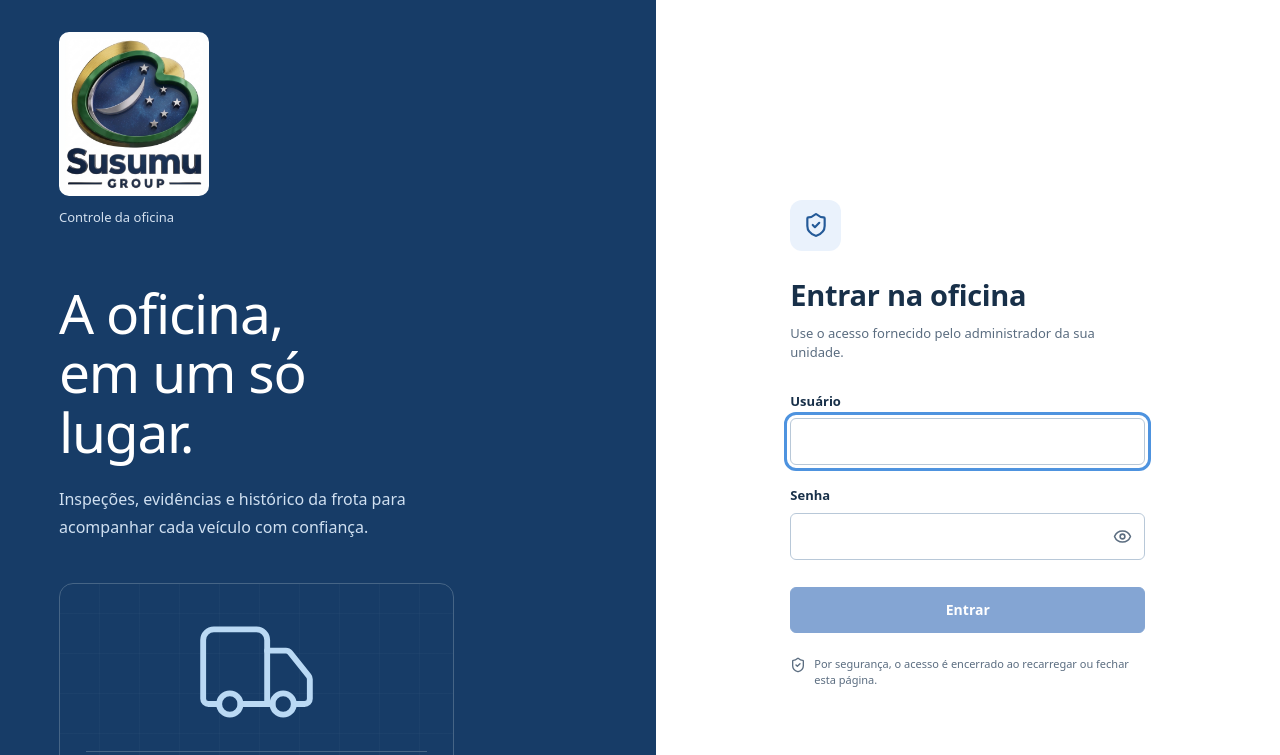
Test: correction discovery › does not present a full correction count before the final page has been checked
The width and height of the screenshot is (1280, 755).
Type "office" into the field labelled "Usuário".
click(968, 442); type("office")  # box [790,418,1145,465]
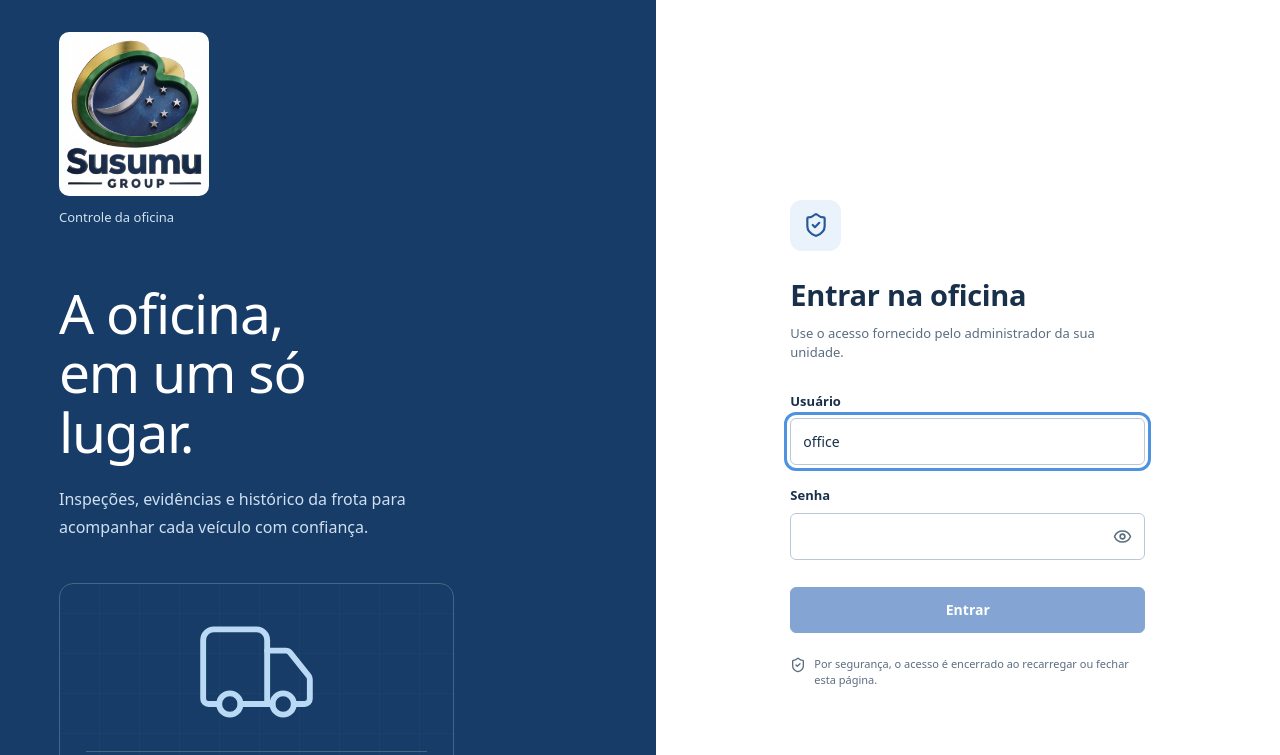
Type "test-only-password" into the password field labelled "Senha".
click(968, 536); type("test-only-password")  # box [790,513,1145,560]
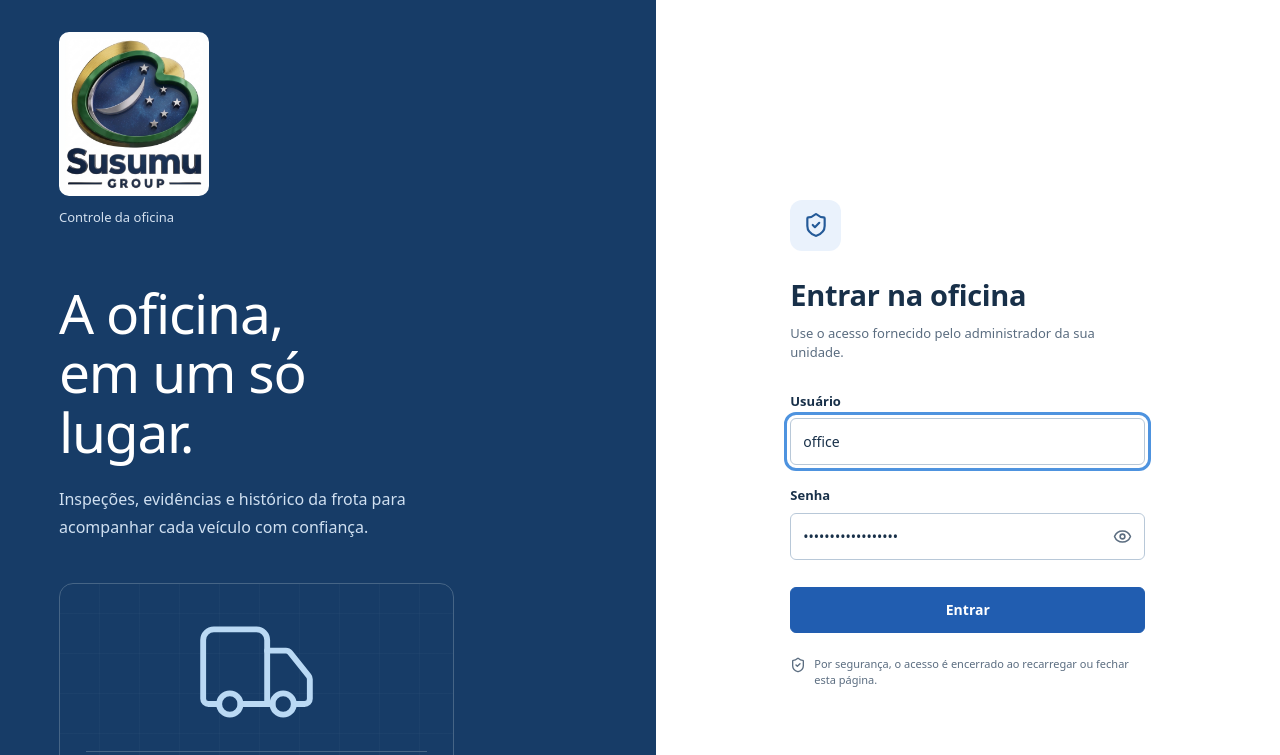
Click the button "Entrar".
click(968, 610)  # box [790,587,1145,633]
(page scrolled)
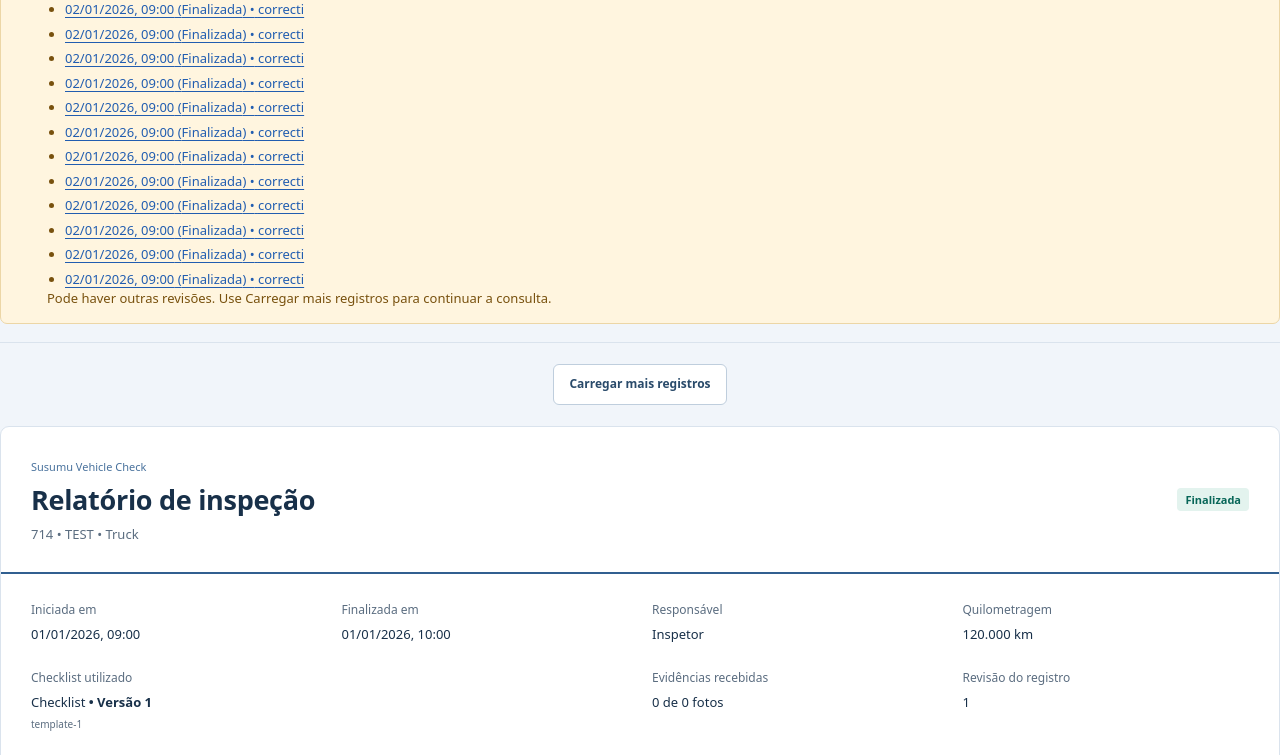
Expected: the text "Pode haver outras revisões" is shown, [47,289,552,307]
Click the button "Carregar mais registros".
click(640, 384)  # box [553,364,727,405]
(page scrolled)
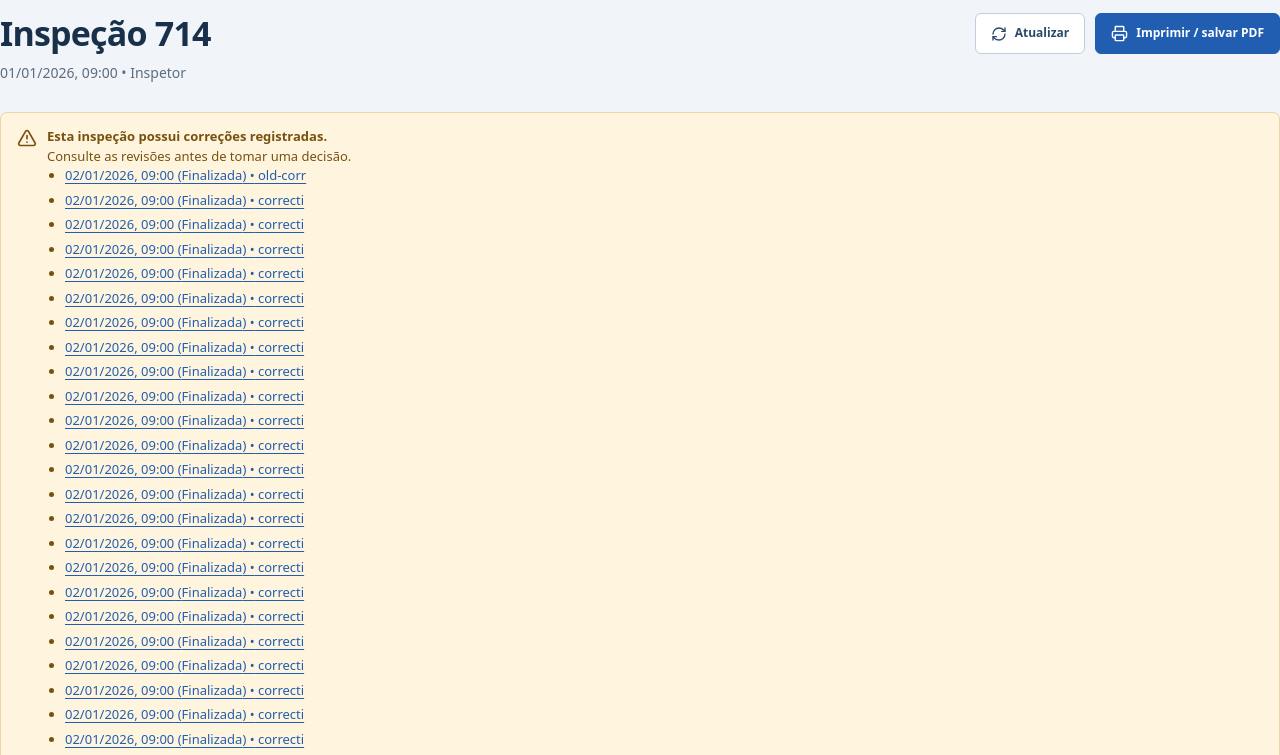
Expected: the text "Esta inspeção possui correções registradas." is shown, [47,127,327,145]
Expected: the text "Carregar mais registros" is gone
Expected: the text "Pode haver outras revisões" is gone
